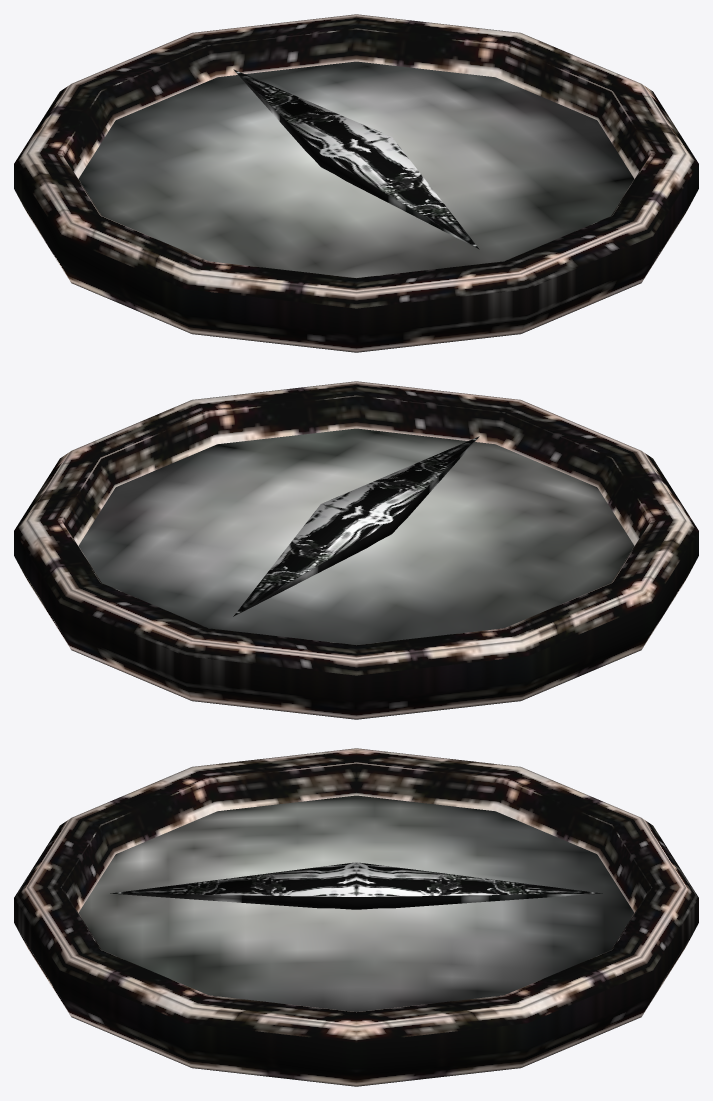
File: ITMI_COMPASS_01.glb
3 renders of one model, top to bottom at view 1: azimuth 30°, elevation 25°; view 2: azimuth 150°, elevation 25°; view 3: azimuth 270°, elevation 25°, orthographic.
Visible parts, largest first — view 1: Mesh; view 2: Mesh; view 3: Mesh.
Boxes of the visible parts, x1=… form: Mesh: x1=14, y1=14, x2=698, y2=352; Mesh: x1=14, y1=381, x2=698, y2=719; Mesh: x1=14, y1=748, x2=698, y2=1086.
Size of the model in its own units: 0.1705 by 0.0186 by 0.1705.
Materials: 1 (1 with a texture image).
